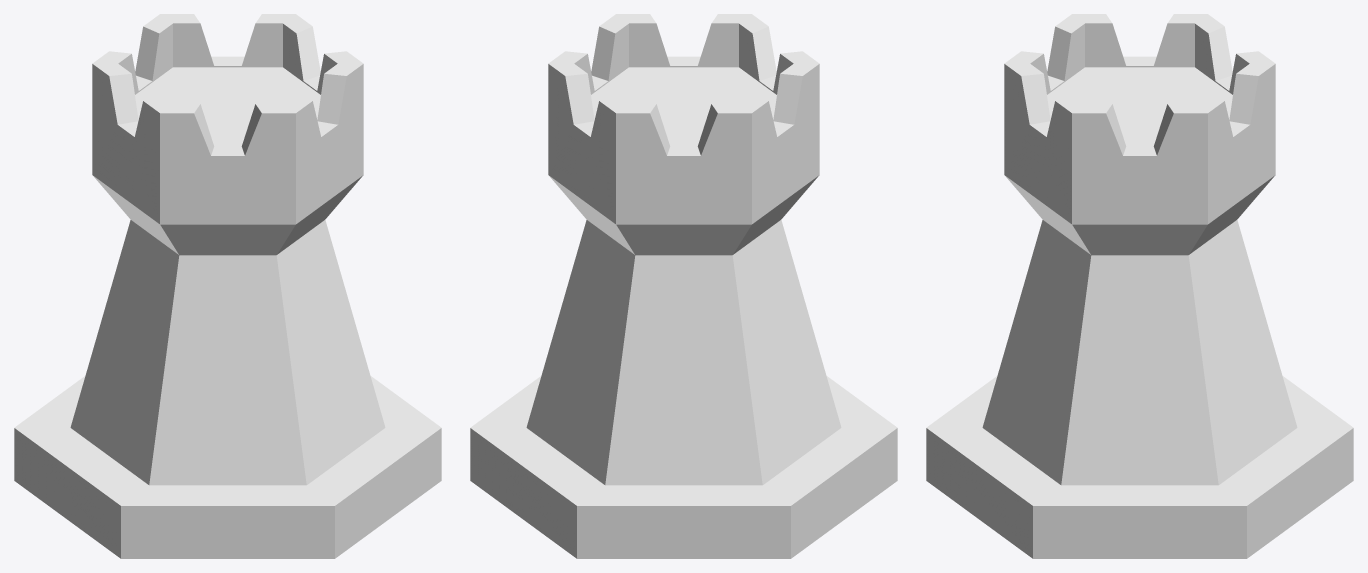
Rendered from chesspiecerook01.gltf.
The picture shows the model from 3 angles, left to right: view 1: azimuth 30°, elevation 25°; view 2: azimuth 150°, elevation 25°; view 3: azimuth 270°, elevation 25°; orthographic projection.
Parts seen in each view (by area): view 1: Cylinder.005; view 2: Cylinder.005; view 3: Cylinder.005.
Boxes of the visible parts, x1,y1,x2,y2 form: Cylinder.005: [14, 14, 441, 558]; Cylinder.005: [470, 14, 897, 558]; Cylinder.005: [926, 14, 1353, 558].
Size of the model in its own units: 0.0225 by 0.028 by 0.026.
1 material, 1 textured.
